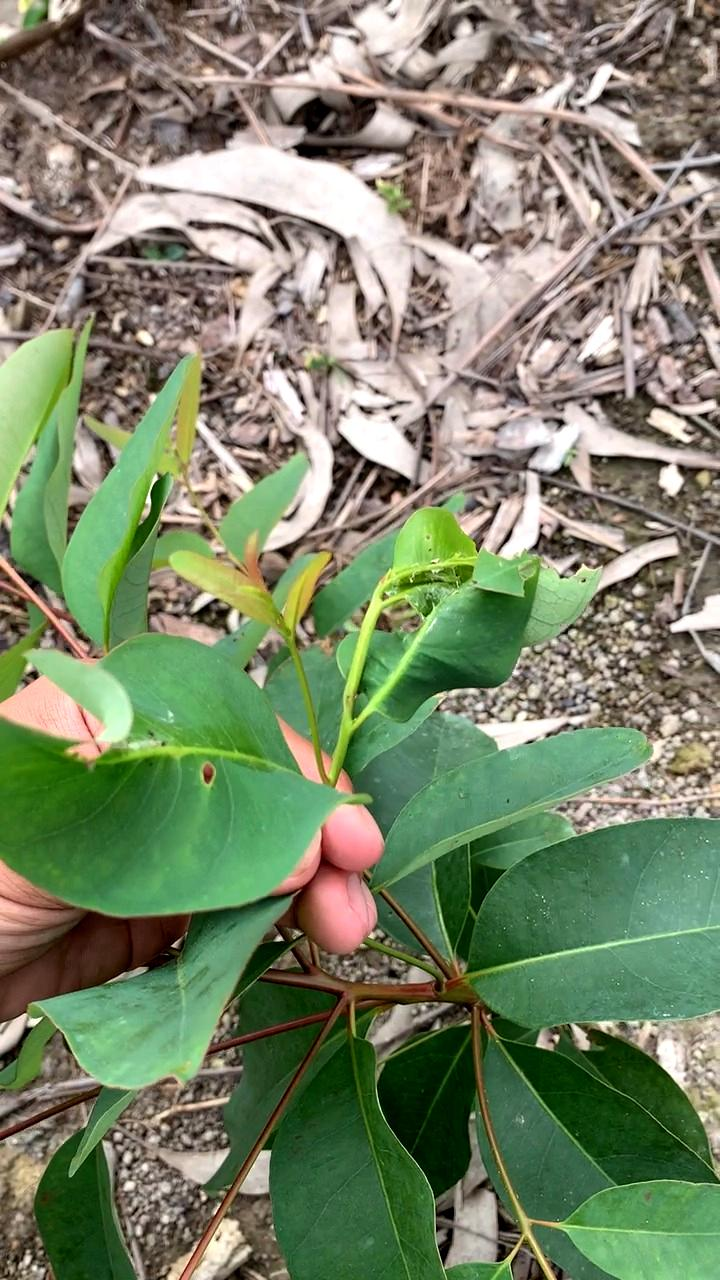Leaf Roller - Leaf: (0, 648, 321, 865), (373, 513, 603, 685)
